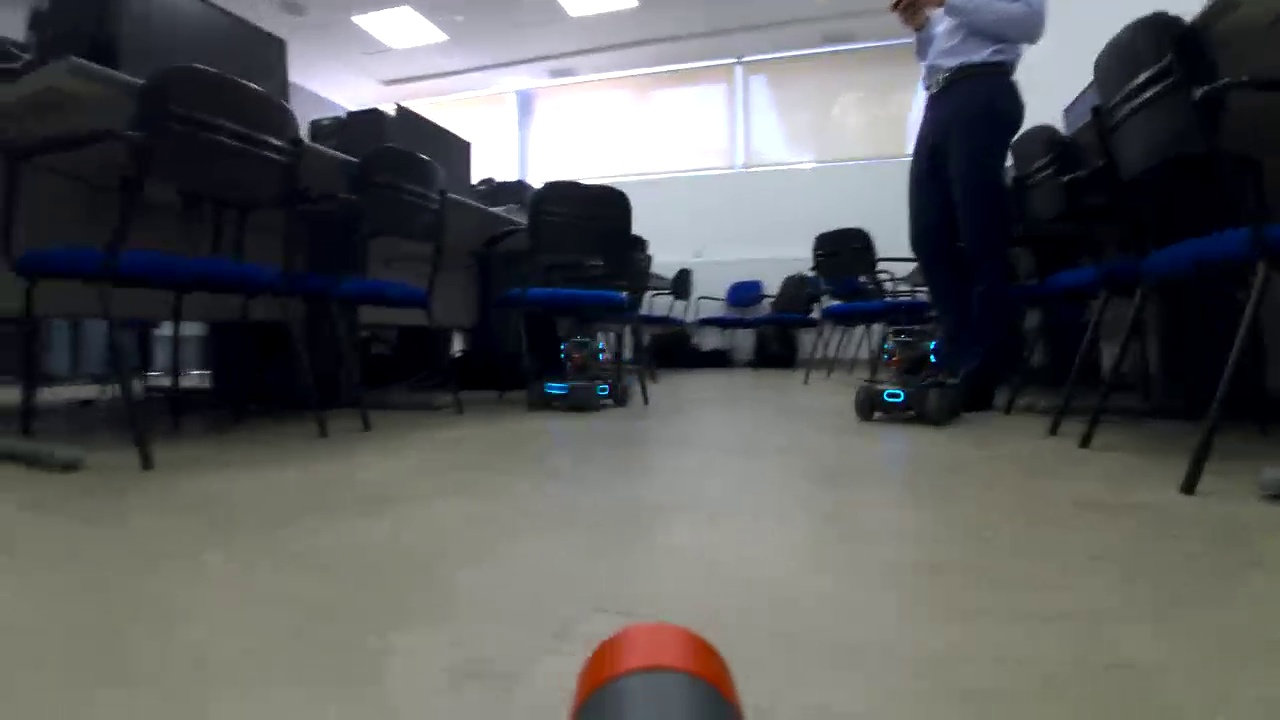robot: (854, 328, 957, 434), (525, 327, 627, 418)
